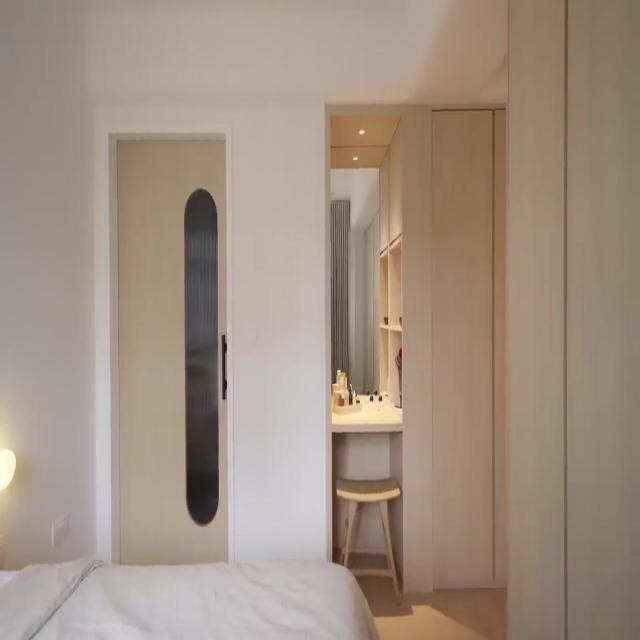door: (116, 132, 230, 564), (405, 109, 500, 590)
obstacle: (0, 554, 380, 640), (336, 476, 402, 606)
